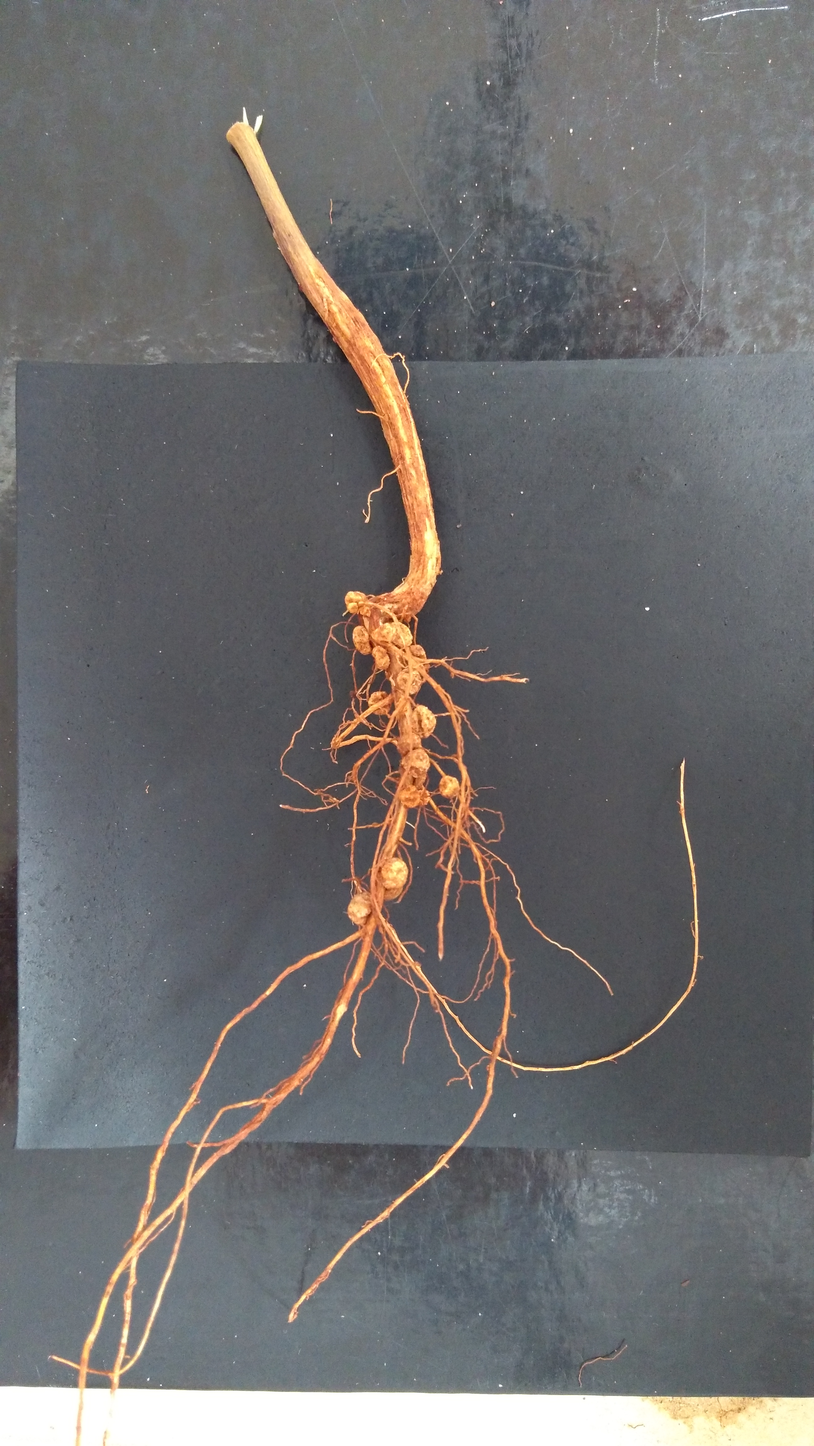nodule: (372, 619, 414, 650), (342, 892, 375, 927), (380, 857, 413, 891), (399, 746, 433, 778), (411, 702, 438, 742), (366, 690, 393, 717), (397, 667, 423, 695), (351, 625, 373, 658), (438, 773, 462, 803), (370, 644, 393, 672), (398, 784, 422, 809), (397, 732, 422, 756), (344, 590, 369, 609), (382, 885, 404, 902), (416, 788, 431, 809), (409, 644, 428, 659), (345, 602, 359, 615), (358, 605, 370, 617)
